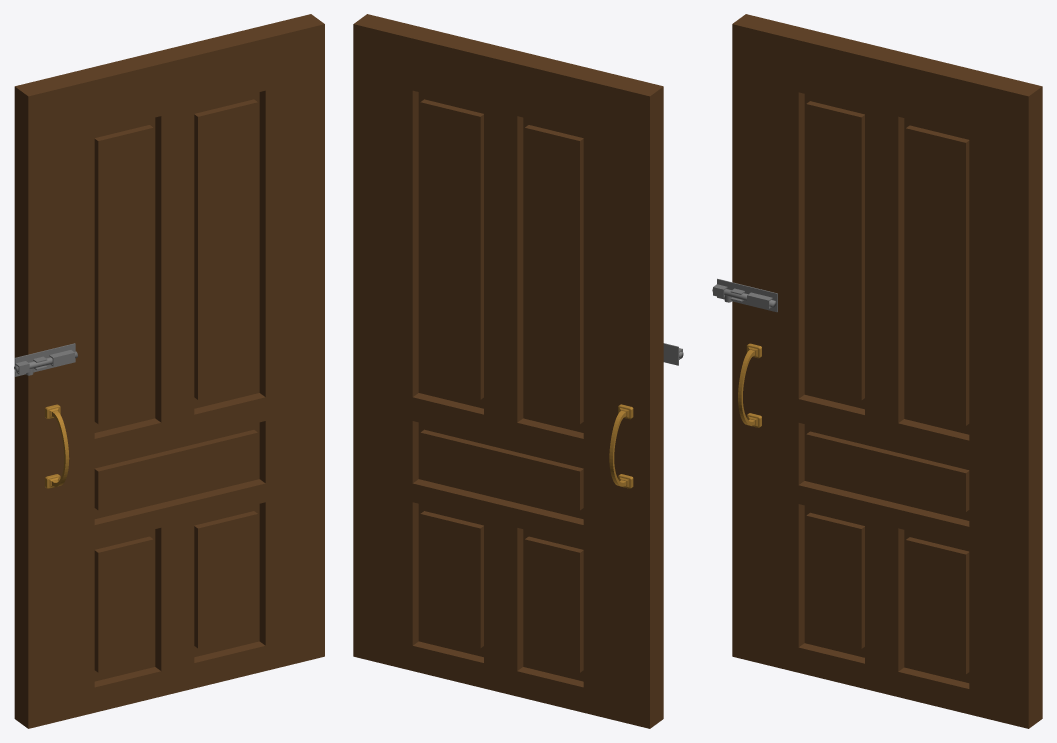
Rendered from Door 3.fbx.
The picture shows the model from 3 angles, left to right: view 1: azimuth 30°, elevation 25°; view 2: azimuth 150°, elevation 25°; view 3: azimuth 330°, elevation 25°; orthographic projection.
Visible parts, largest first — view 1: Door.003; view 2: Door.003; view 3: Door.003.
Part boxes in pixels (x1,y1,x2,y2): Door.003: [14, 14, 324, 728]; Door.003: [353, 14, 683, 728]; Door.003: [712, 14, 1042, 728].
Size of the model in its own units: 891 by 1727 by 223.
